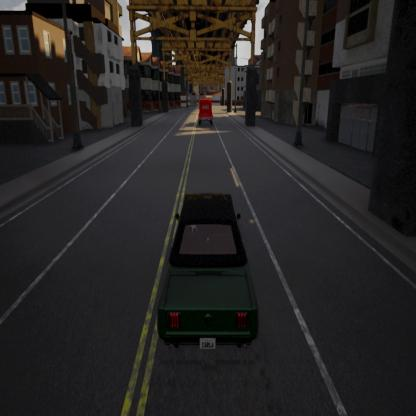Cars: (146, 177, 269, 362), (196, 95, 216, 128)
